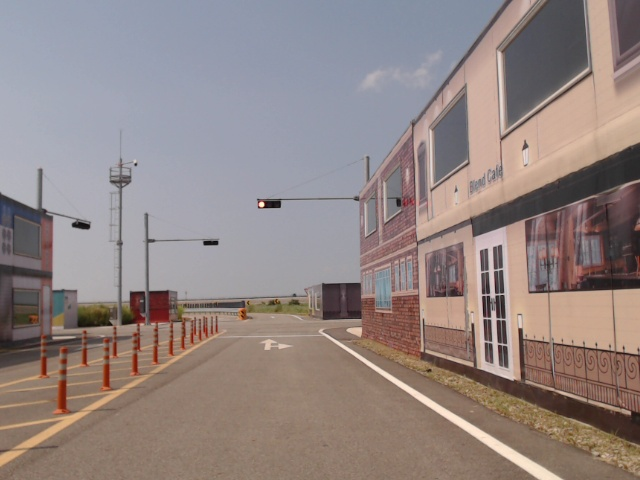red_3: (258, 200, 283, 209)
